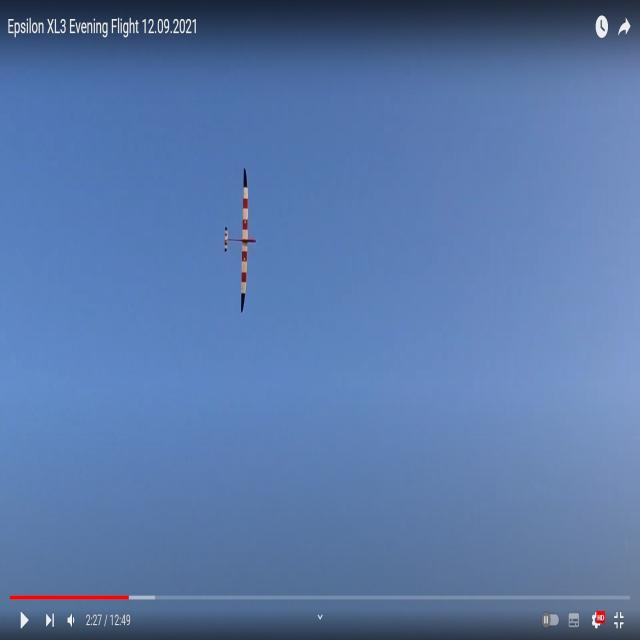iha: (223, 165, 254, 314)
